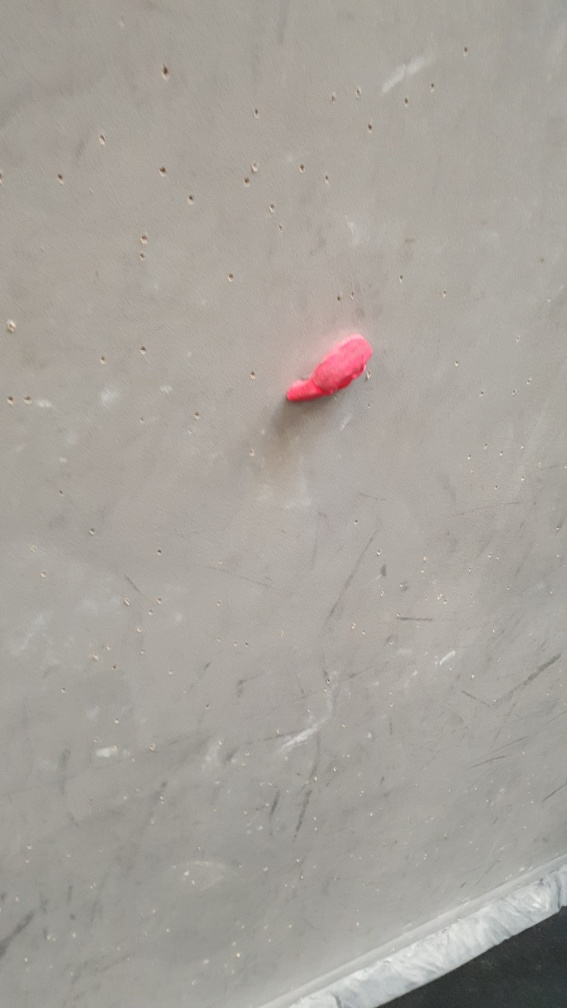Jug: (279, 332, 374, 409)
